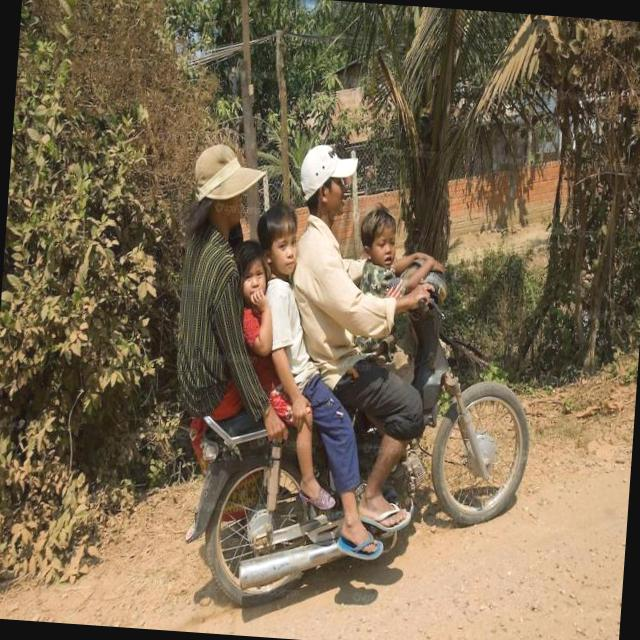motorcycle: (182, 236, 547, 632)
person: (171, 142, 264, 452), (288, 142, 362, 408), (240, 201, 318, 402), (346, 203, 400, 442), (226, 232, 272, 390)
rider_region: (157, 128, 542, 630)
